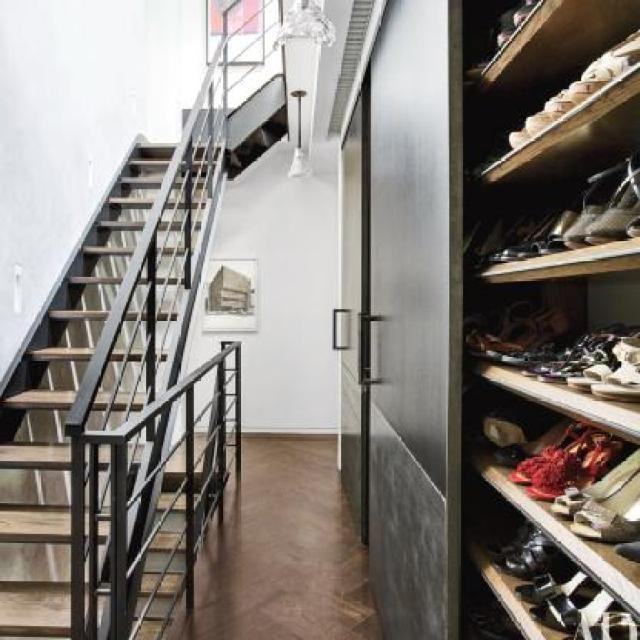stair: (0, 66, 249, 639)
